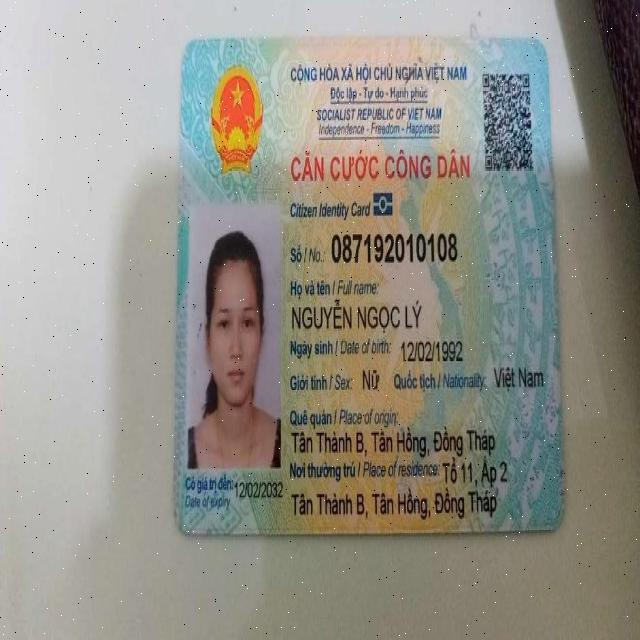dob: (398, 334, 474, 368)
id: (328, 223, 465, 271)
name: (288, 295, 433, 337)
